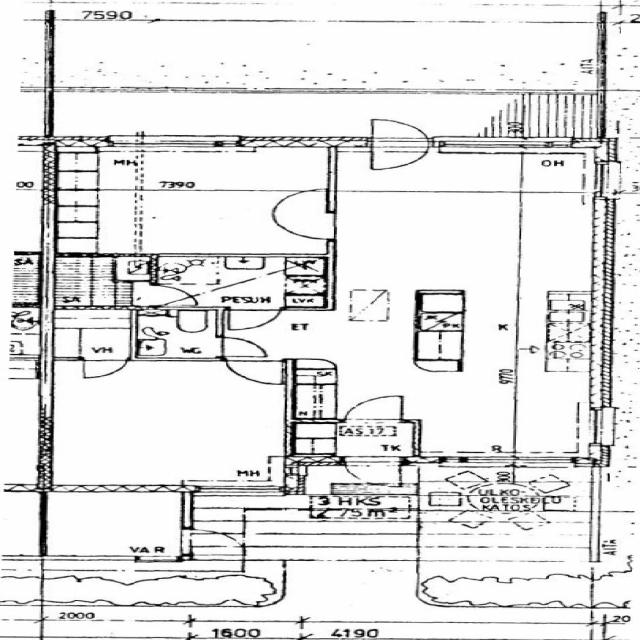door: (372, 112, 428, 148), (342, 457, 400, 491), (372, 137, 428, 172), (182, 529, 252, 555), (269, 213, 335, 239), (226, 358, 283, 386), (344, 395, 401, 423), (229, 307, 282, 332), (216, 337, 267, 357), (150, 286, 202, 305), (84, 358, 126, 380)
